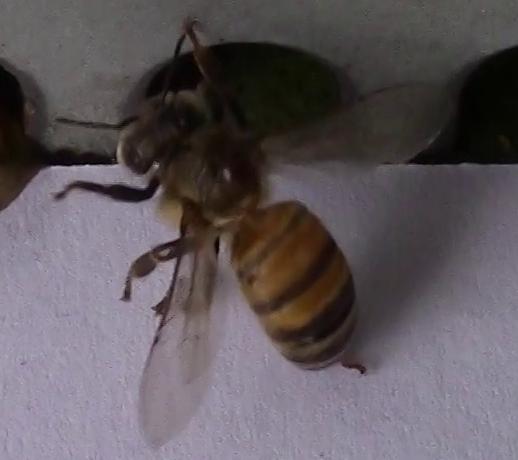Varroa destructor: (222, 161, 262, 196)
